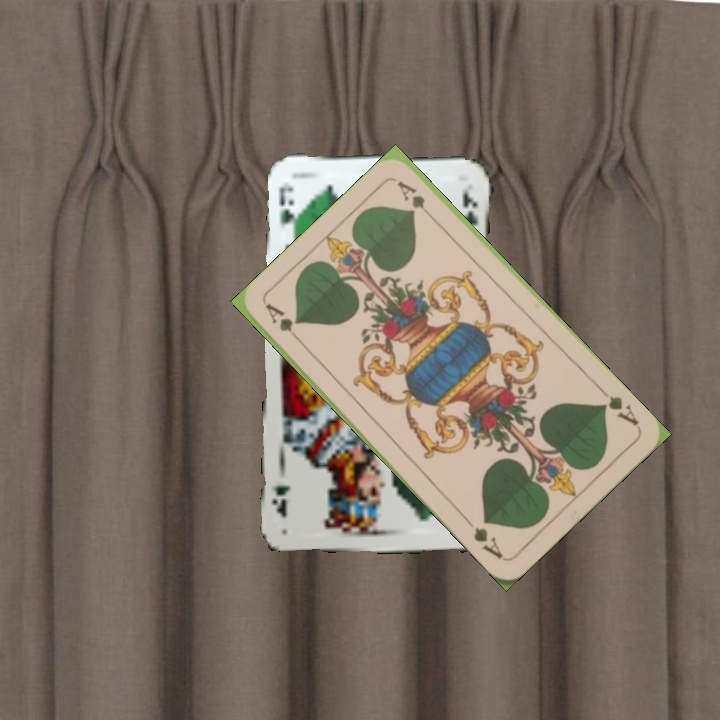GA: (261, 299, 307, 348), (595, 384, 642, 428)
GK: (275, 179, 300, 235)
